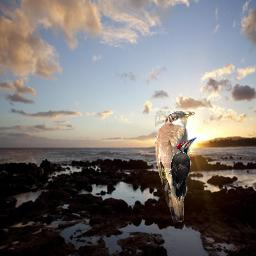Cuckoo: (155, 111, 195, 222)
Woodpecker: (165, 137, 198, 201)
